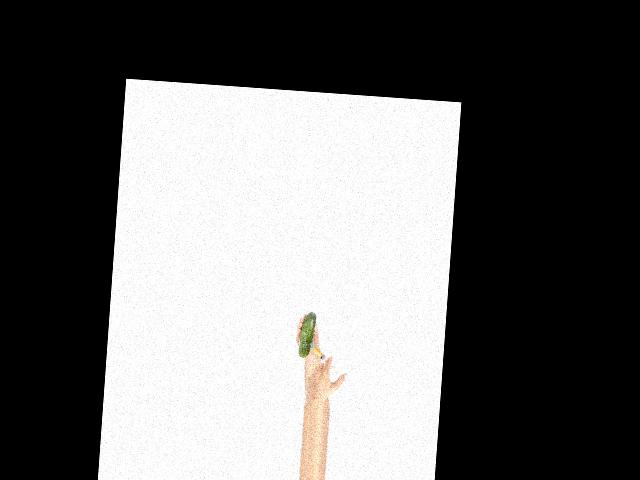cucumber: (298, 310, 316, 358)
